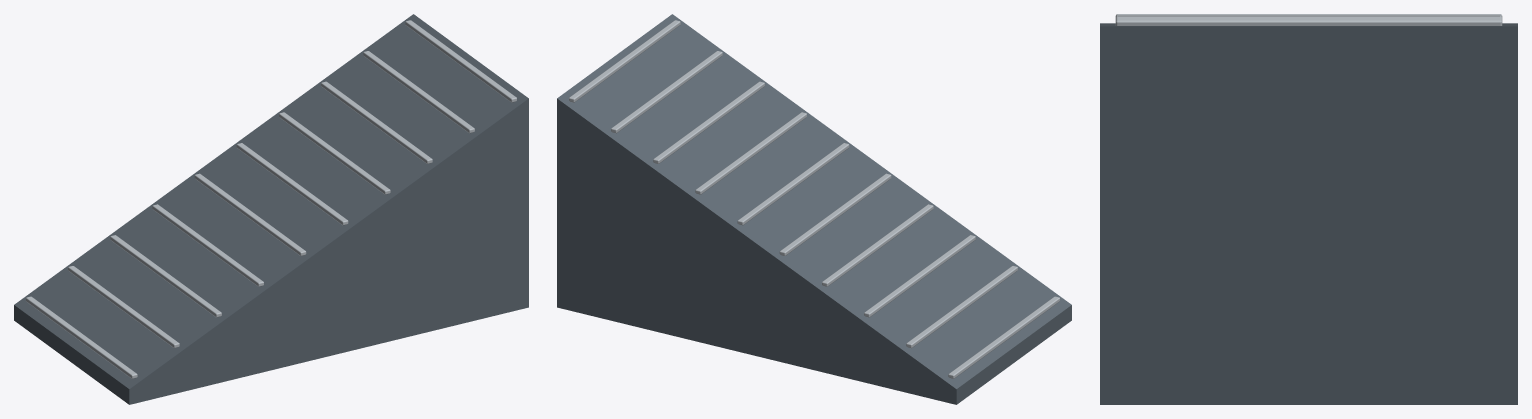
The model's file is arena-shooter-map-kit-ramp-long-c0b44f86__23092.glb.
3 views of the same model, side by side, from view 1: azimuth 30°, elevation 25°; view 2: azimuth 150°, elevation 25°; view 3: azimuth 270°, elevation 25° (orthographic). The views are drawn at different scales.
Visible parts, largest first — view 1: ramp-long; view 2: ramp-long; view 3: ramp-long.
Part boxes in pixels (box(x1,y1,x2,y2)): ramp-long: box(14, 14, 528, 404); ramp-long: box(557, 14, 1071, 404); ramp-long: box(1100, 14, 1517, 404).
Bounding box in the file's own units: 4 × 2 × 2.
